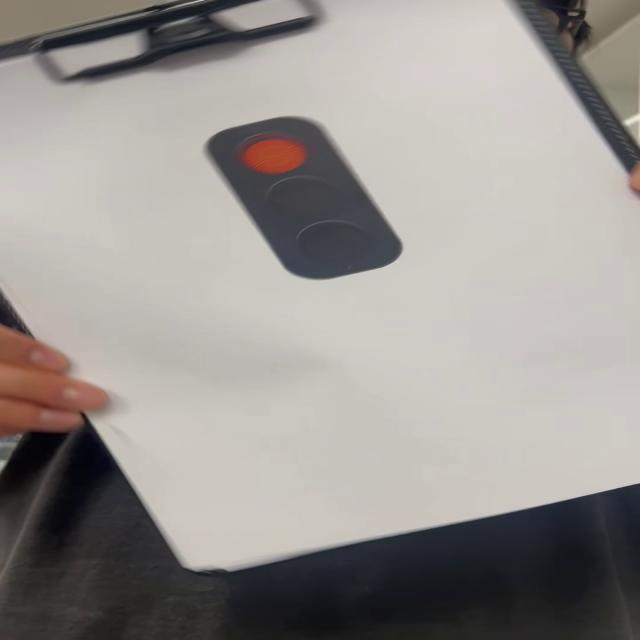red: (201, 116, 412, 282)
